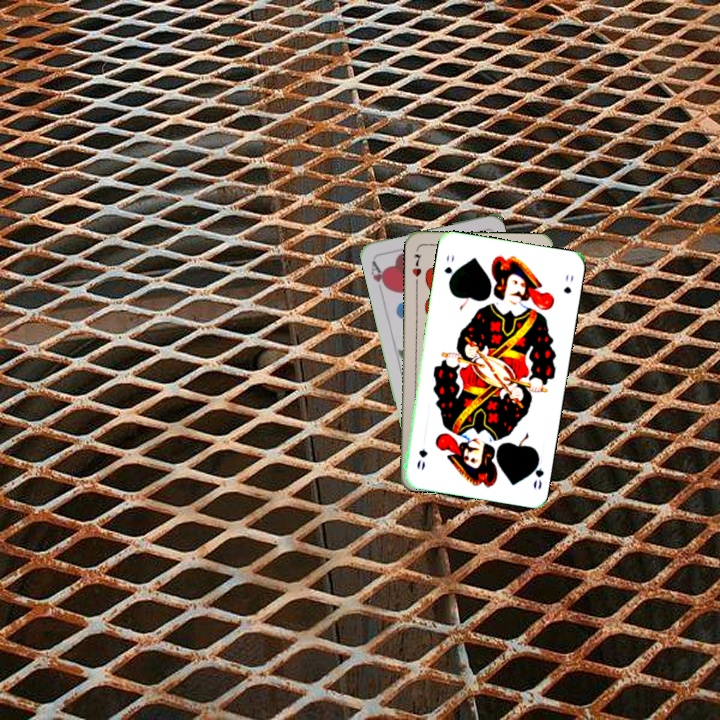GO: (526, 451, 546, 492), (440, 250, 457, 287)
H7: (408, 250, 424, 286)
HA: (367, 256, 391, 292)
